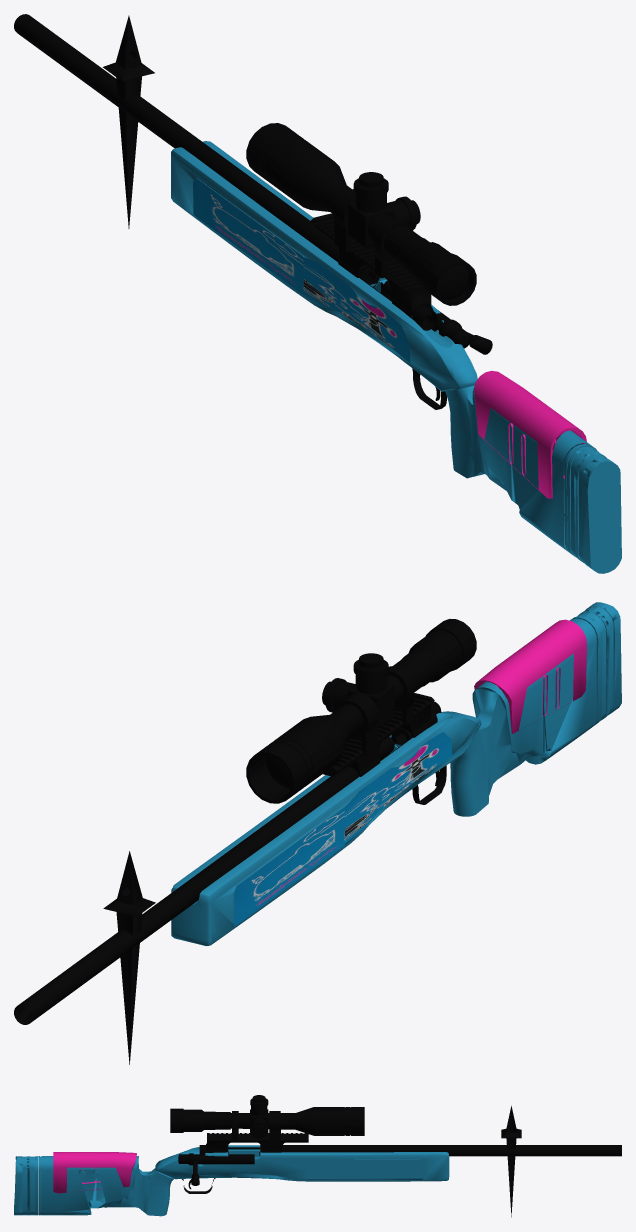
File: Gun.glb
The picture shows the model from 3 angles, top to bottom: view 1: azimuth 30°, elevation 25°; view 2: azimuth 150°, elevation 25°; view 3: azimuth 270°, elevation 25°; orthographic projection. The views are drawn at different scales.
Visible parts, largest first — view 1: m40a3, m40a3_x16scope, Screenshot 2025-03-22 160528, m40a3_cheekwell, m40a3_bolt; view 2: m40a3, m40a3_x16scope, Screenshot 2025-03-22 160528, m40a3_cheekwell; view 3: m40a3, m40a3_x16scope, m40a3_cheekwell, m40a3_bolt.
Part boxes in pixels (box(x1,y1,x2,y2)): m40a3: box(14, 14, 621, 573); m40a3_x16scope: box(246, 123, 476, 305); Screenshot 2025-03-22 160528: box(193, 179, 410, 363); m40a3_cheekwell: box(474, 371, 586, 498); m40a3_bolt: box(382, 280, 492, 354); m40a3: box(14, 602, 621, 1064); m40a3_x16scope: box(246, 619, 476, 803); Screenshot 2025-03-22 160528: box(234, 732, 452, 925); m40a3_cheekwell: box(474, 619, 586, 733); m40a3: box(14, 1105, 621, 1217); m40a3_x16scope: box(170, 1095, 364, 1142); m40a3_cheekwell: box(53, 1152, 136, 1193); m40a3_bolt: box(178, 1153, 254, 1185).
Bounding box in the file's own units: 0.0912 × 0.2453 × 1.12.
Materials: 5 (1 with a texture image).
